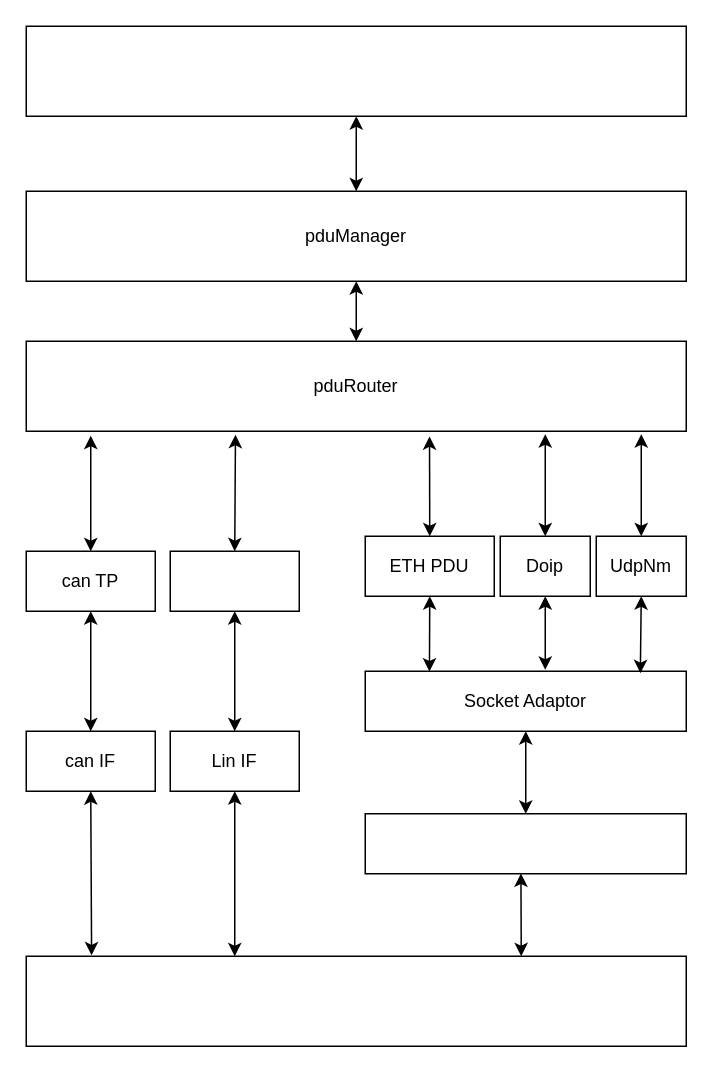
The diagram is 713 pixels wide and 1073 high, and some of its shapes have lost their labels. The centre of each missing label's shape, as x and y in pixels:
Application: pixel 355 70
Lin TP: pixel 234 580
TCP/IP Stack: pixel 525 843
硬件: pixel 355 1000
